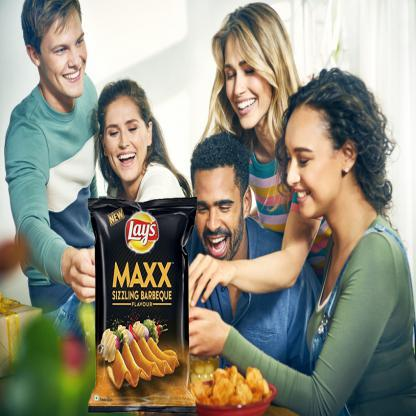maxx_sizzling_barbeque: (88, 200, 192, 407)
